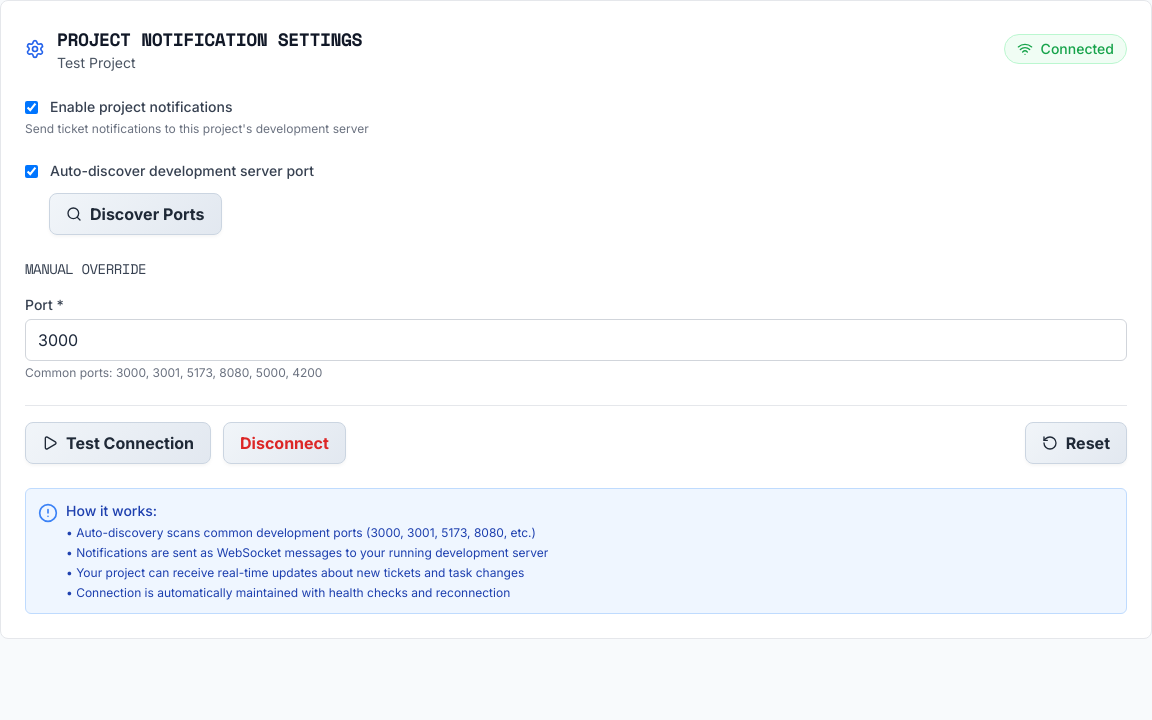
ProjectPortConfiguration Component › Change Detection › should show unsaved changes indicator when config changes
Type "3001" into the number field with placeholder "3000" at (576, 340), box 25,319 -> 1127,361
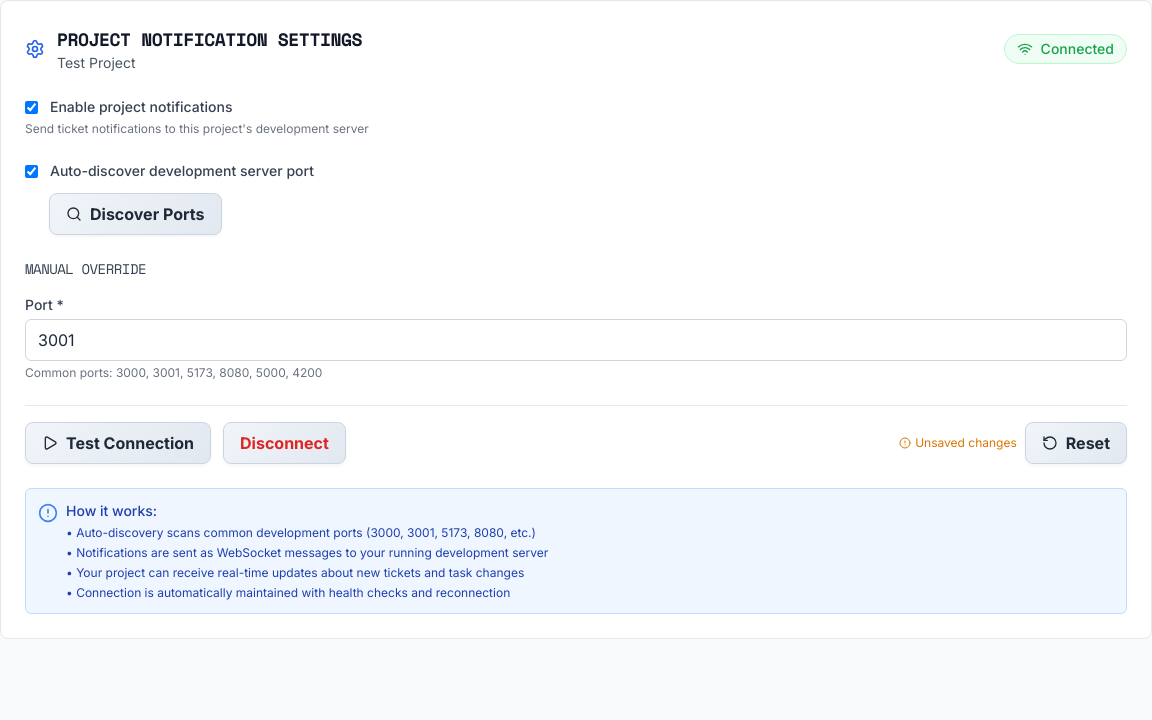
Expected: the text "Unsaved changes" is shown, 915,435 -> 1017,451
